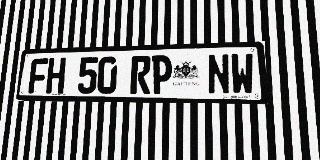0: (97, 56, 118, 94)
5: (77, 57, 98, 94)
F: (28, 58, 48, 94)
H: (46, 58, 66, 94)
N: (207, 54, 230, 95)
P: (151, 55, 172, 94)
R: (130, 56, 151, 94)
W: (230, 53, 255, 95)
